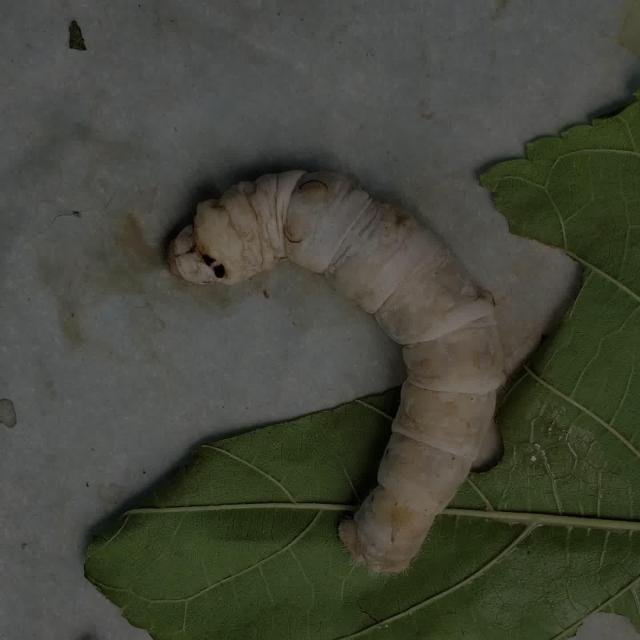Grasserie: (162, 152, 524, 582)
